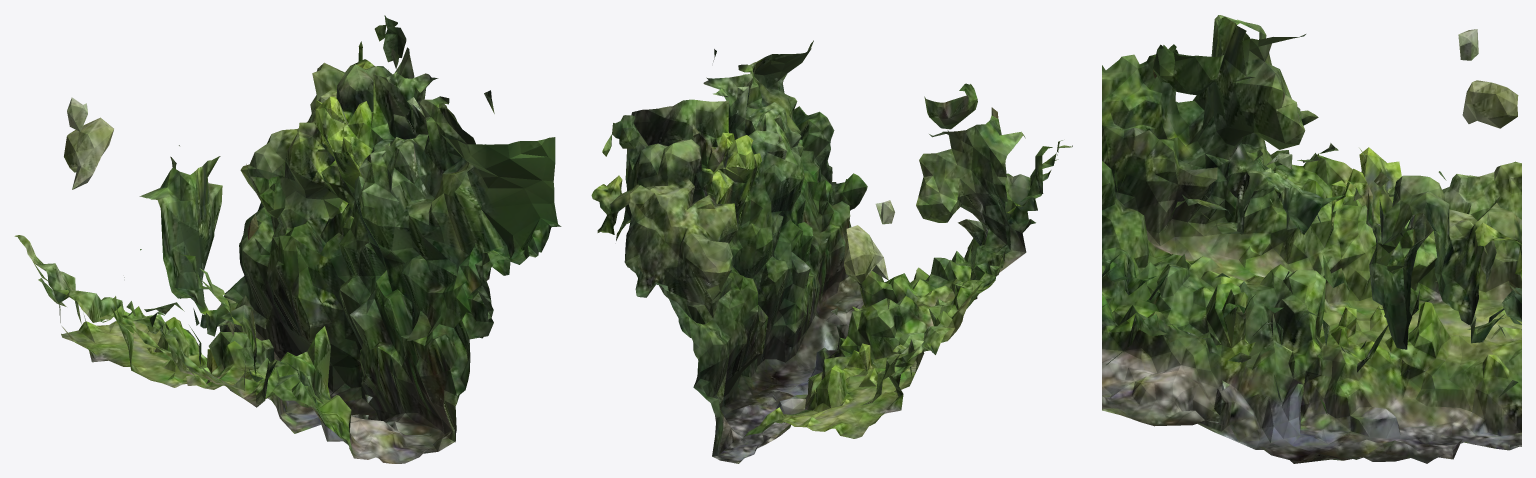
The picture shows the model from 3 angles, left to right: view 1: azimuth 30°, elevation 25°; view 2: azimuth 150°, elevation 25°; view 3: azimuth 270°, elevation 25°; orthographic projection. The views are drawn at different scales.
Bounding box in the file's own units: 26.11 × 23.65 × 26.11.
Materials: 7 (7 with a texture image).
